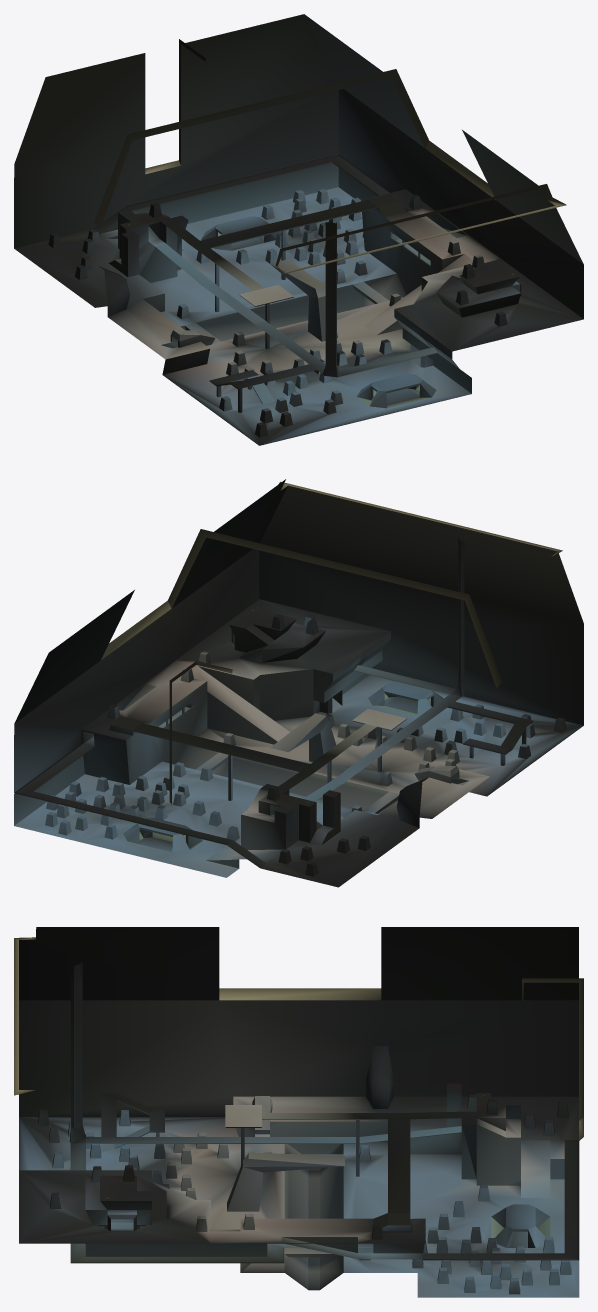
The model's file is HEH.glb.
The picture shows the model from 3 angles, top to bottom: view 1: azimuth 30°, elevation 25°; view 2: azimuth 150°, elevation 25°; view 3: azimuth 270°, elevation 25°; orthographic projection. The views are drawn at different scales.
Parts seen in each view (by area): view 1: HEH; view 2: HEH; view 3: HEH.
Boxes of the visible parts, x1,y1,x2,y2 form: HEH: (14, 14, 583, 445); HEH: (14, 479, 583, 887); HEH: (14, 927, 583, 1297).
Size of the model in its own units: 91.37 by 53.14 by 118.
